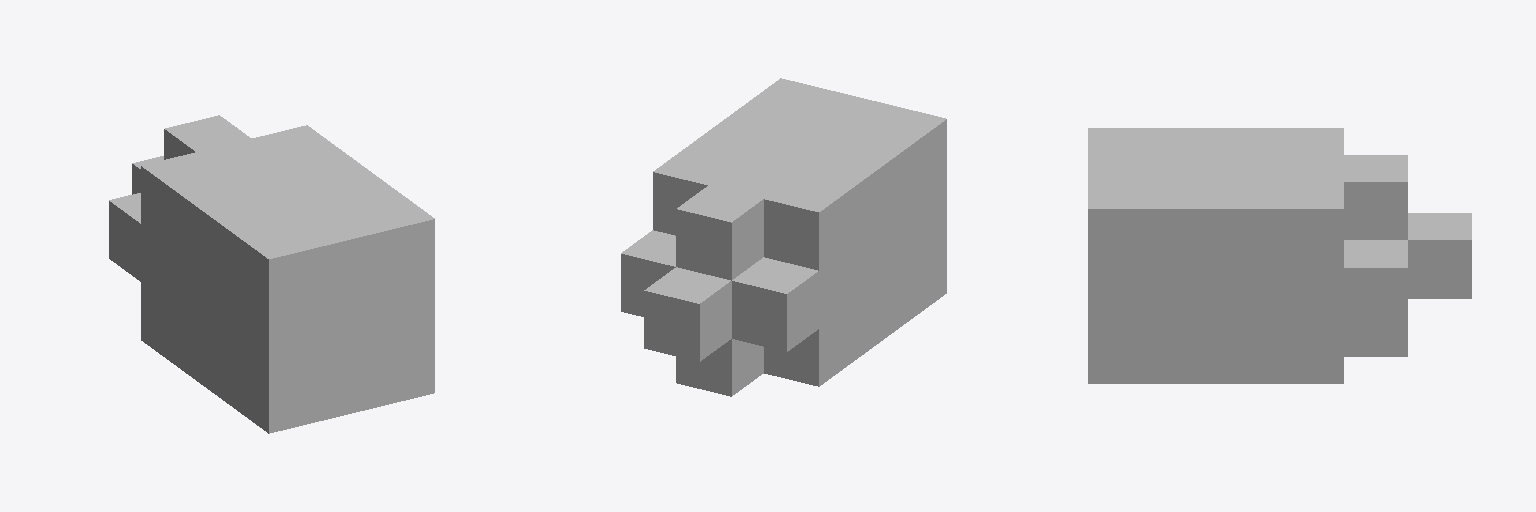
The model's file is Bottle_Pink-3.obj.
The picture shows the model from 3 angles: view 1: azimuth 30°, elevation 25°; view 2: azimuth 150°, elevation 25°; view 3: azimuth 270°, elevation 25°; orthographic projection.
Visible parts, largest first — view 1: Bottle_Pink-3; view 2: Bottle_Pink-3; view 3: Bottle_Pink-3.
Boxes of the visible parts, <box> form: Bottle_Pink-3: <box>109,115,434,433</box>; Bottle_Pink-3: <box>621,78,946,396</box>; Bottle_Pink-3: <box>1088,128,1471,383</box>.
Size of the model in its own units: 0.06 by 0.06 by 0.12.